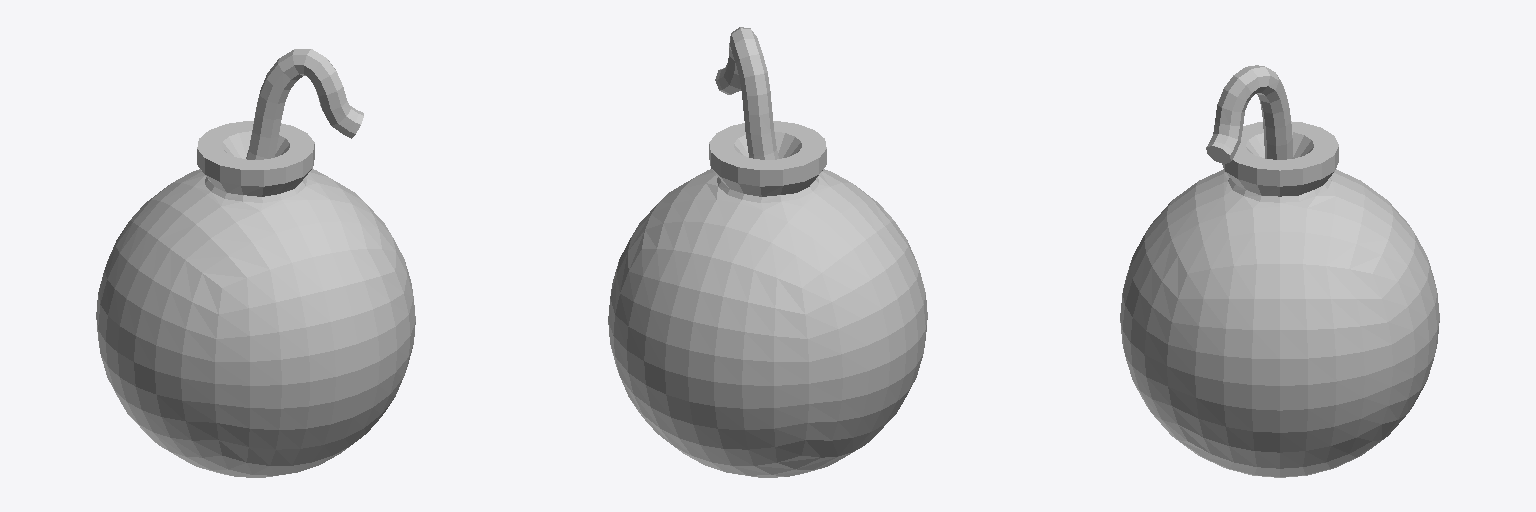
File: bomb.obj
The picture shows the model from 3 angles: view 1: azimuth 30°, elevation 25°; view 2: azimuth 150°, elevation 25°; view 3: azimuth 270°, elevation 25°; orthographic projection.
Visible parts, largest first — view 1: bomb; view 2: bomb; view 3: bomb.
Boxes of the visible parts, x1,y1,x2,y2 form: bomb: [96, 49, 415, 477]; bomb: [608, 27, 927, 477]; bomb: [1120, 65, 1439, 477].
Bounding box in the file's own units: 5.5 × 7.87 × 5.5.